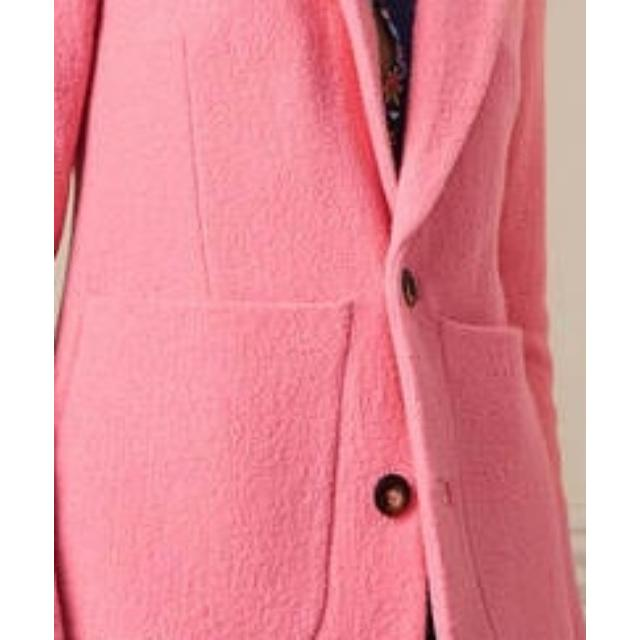wool: (54, 0, 586, 640)
